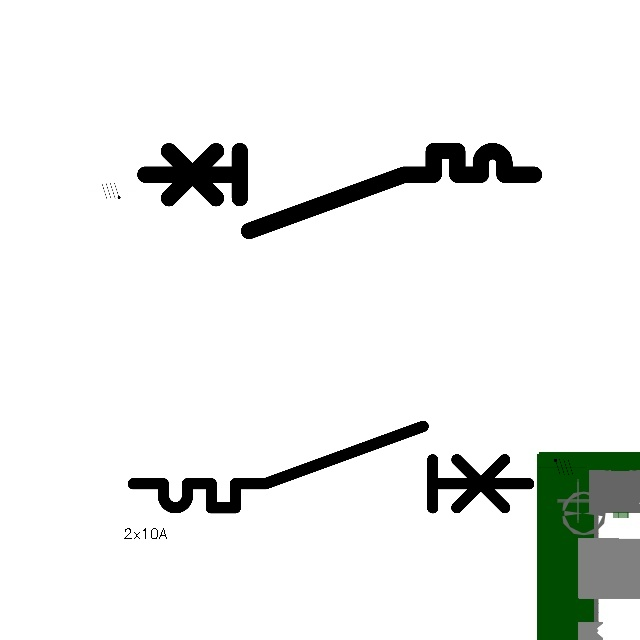interruptor_termomagnetico: (123, 416, 538, 518), (135, 141, 544, 241)
